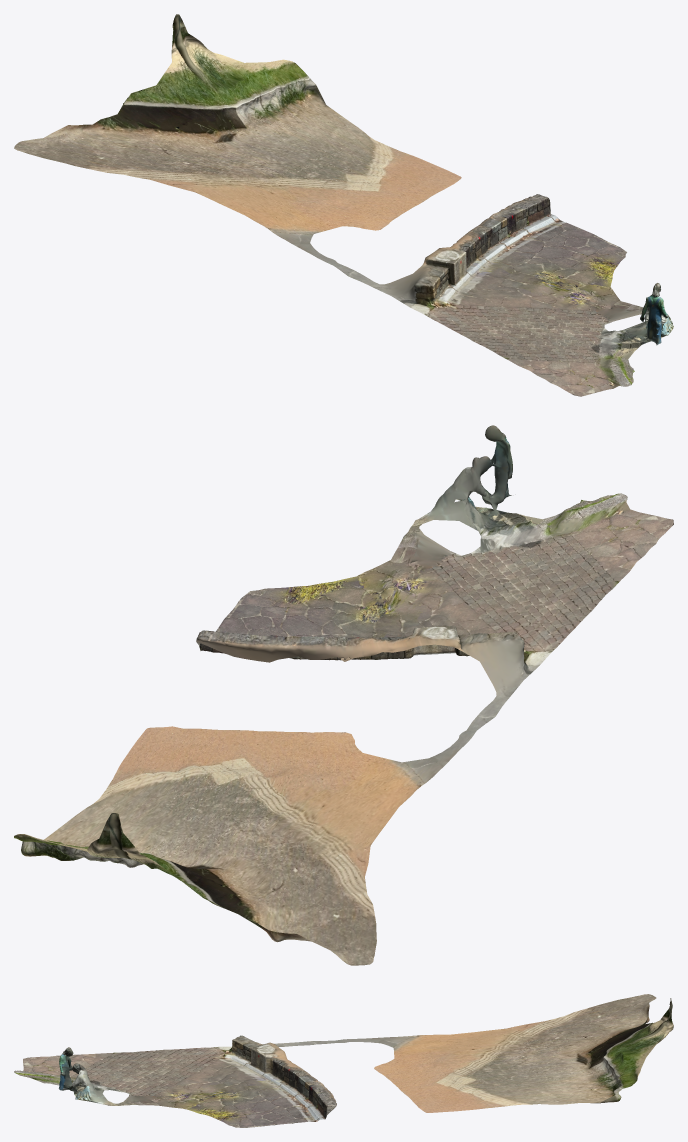
The picture shows the model from 3 angles, top to bottom: view 1: azimuth 30°, elevation 25°; view 2: azimuth 150°, elevation 25°; view 3: azimuth 270°, elevation 25°; orthographic projection. The views are drawn at different scales.
Visible parts, largest first — view 1: baked_mesh_1f6ceedd; view 2: baked_mesh_1f6ceedd; view 3: baked_mesh_1f6ceedd.
Boxes of the visible parts, box(x1,y1,x2,y2) form: baked_mesh_1f6ceedd: box(14, 14, 673, 396); baked_mesh_1f6ceedd: box(14, 425, 673, 965); baked_mesh_1f6ceedd: box(14, 994, 673, 1127).
Bounding box in the file's own units: 0.8386 × 0.19 × 1.73.
1 material, 1 textured.
